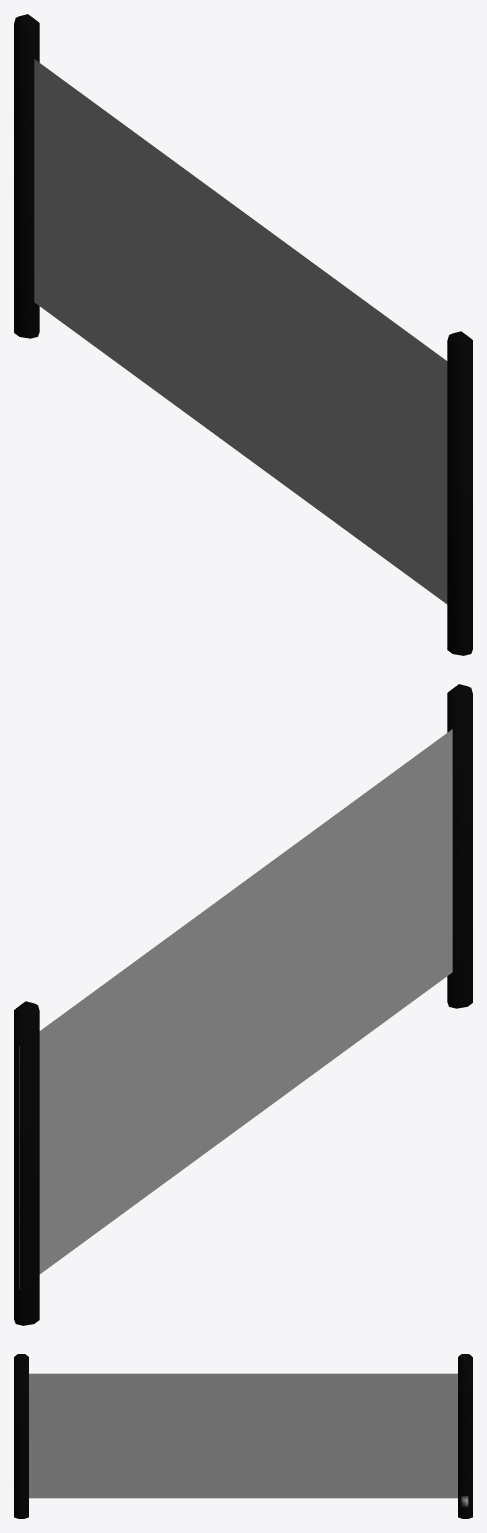
File: Barbed_wire.fbx
The picture shows the model from 3 angles, top to bottom: view 1: azimuth 30°, elevation 25°; view 2: azimuth 150°, elevation 25°; view 3: azimuth 270°, elevation 25°; orthographic projection. The views are drawn at different scales.
Parts seen in each view (by area): view 1: barbedwire_wire, barbedwire_stick; view 2: barbedwire_wire, barbedwire_stick; view 3: barbedwire_wire, barbedwire_stick.
Boxes of the visible parts, x1,y1,x2,y2 form: barbedwire_wire: (34,59,447,604); barbedwire_stick: (14,14,472,655); barbedwire_wire: (19,729,452,1288); barbedwire_stick: (14,684,472,1325); barbedwire_wire: (29,1373,457,1498); barbedwire_stick: (14,1354,472,1518).
Size of the model in its own units: 10.41 by 155 by 400.
